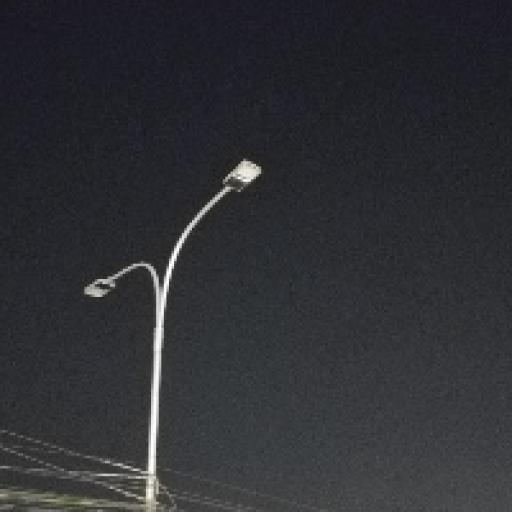Not Working: (214, 147, 264, 209), (72, 266, 125, 310)
